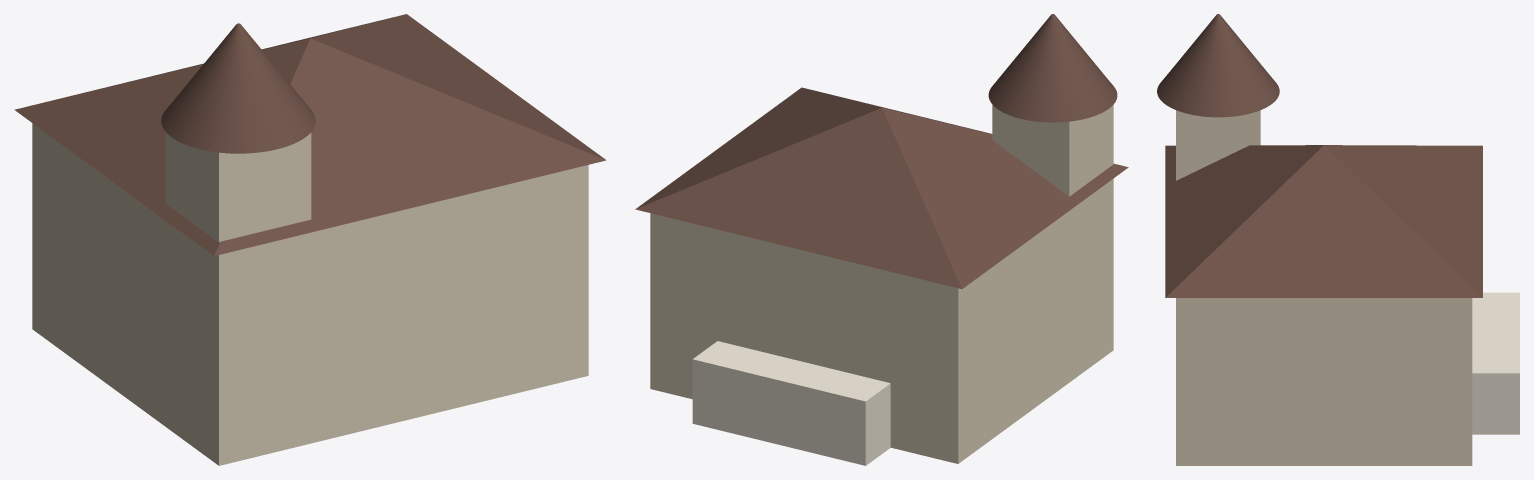
File: d-ce-03-riverside-villa.glb
The picture shows the model from 3 angles, left to right: view 1: azimuth 30°, elevation 25°; view 2: azimuth 150°, elevation 25°; view 3: azimuth 270°, elevation 25°; orthographic projection. The views are drawn at different scales.
Visible parts, largest first — view 1: part0, part1, part2, part3; view 2: part0, part1, part4, part3, part2; view 3: part0, part1, part3, part4, part2.
Part boxes in pixels (left/top/right/bottom): part0: left=32, top=123, right=588, bottom=465; part1: left=14, top=14, right=606, bottom=255; part2: left=165, top=132, right=311, bottom=465; part3: left=161, top=23, right=315, bottom=153; part0: left=650, top=178, right=1113, bottom=463; part1: left=635, top=87, right=1128, bottom=288; part4: left=692, top=341, right=890, bottom=465; part3: left=988, top=14, right=1117, bottom=122; part2: left=992, top=105, right=1113, bottom=359; part0: left=1176, top=298, right=1472, bottom=465; part1: left=1165, top=145, right=1482, bottom=297; part3: left=1157, top=14, right=1279, bottom=117; part4: left=1472, top=292, right=1519, bottom=434; part2: left=1176, top=110, right=1260, bottom=180.
Bounding box in the file's own units: 17396 × 17000 × 17149.
